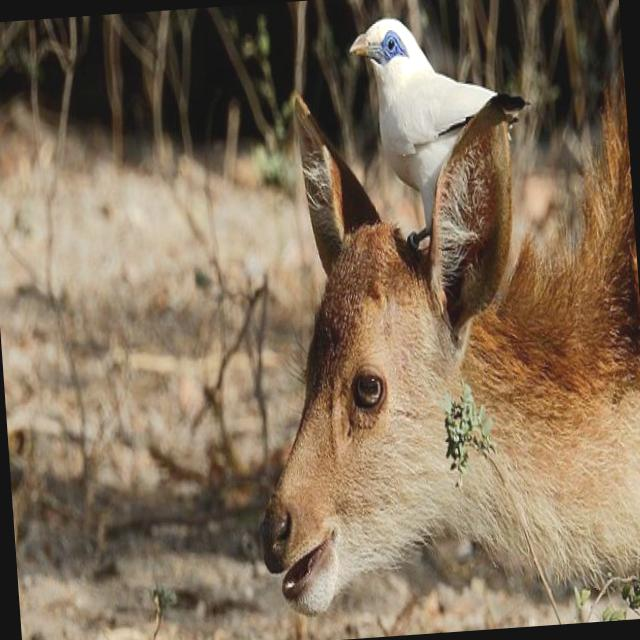Jalak Bali: (336, 0, 537, 304)
